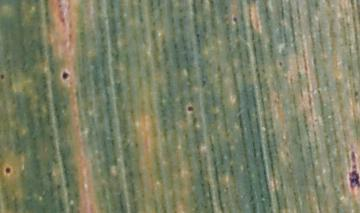tarspot: (348, 151, 360, 189), (4, 166, 12, 175), (61, 71, 69, 80), (185, 105, 195, 112), (232, 15, 238, 22), (278, 60, 283, 68), (1, 72, 5, 81)
